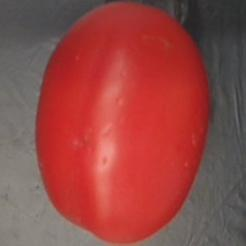unripe: (30, 0, 212, 246)
